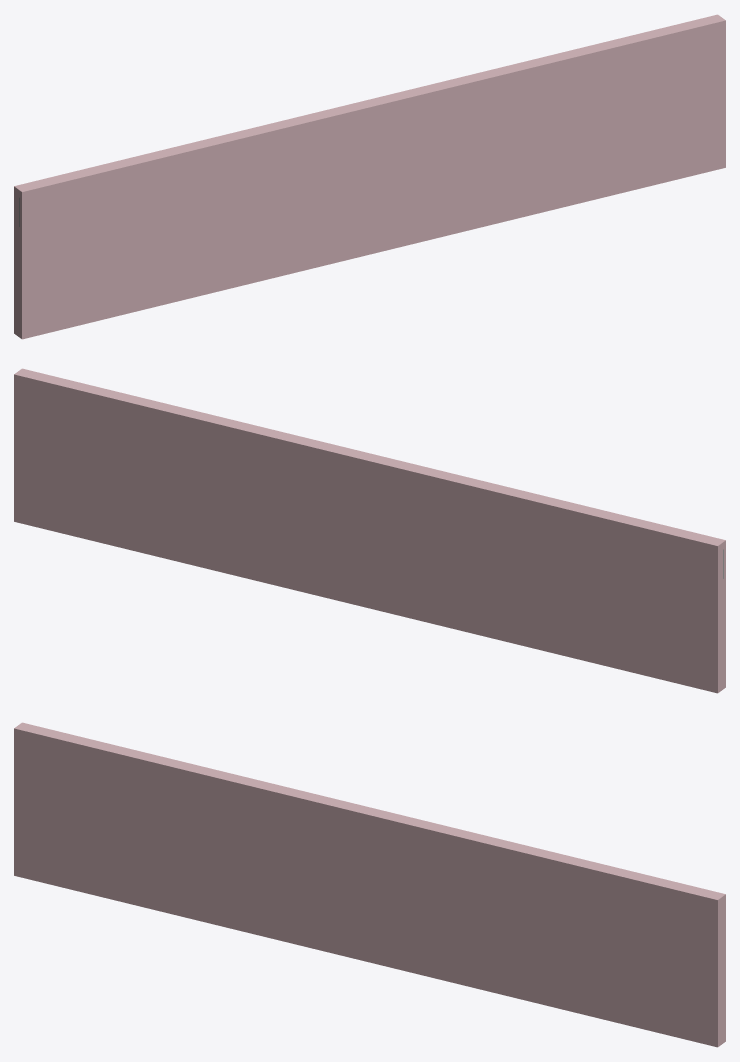
File: board.glb
3 views of the same model, one above another, from view 1: azimuth 30°, elevation 25°; view 2: azimuth 150°, elevation 25°; view 3: azimuth 330°, elevation 25° (orthographic).
Visible parts, largest first — view 1: Substrate_Layer_0; view 2: Substrate_Layer_0; view 3: Substrate_Layer_0.
Boxes of the visible parts, x1=… form: Substrate_Layer_0: x1=14, y1=14, x2=725, y2=339; Substrate_Layer_0: x1=14, y1=368, x2=725, y2=693; Substrate_Layer_0: x1=14, y1=722, x2=725, y2=1047.
Bounding box in the file's own units: 0.1 × 0.02 × 0.002.
